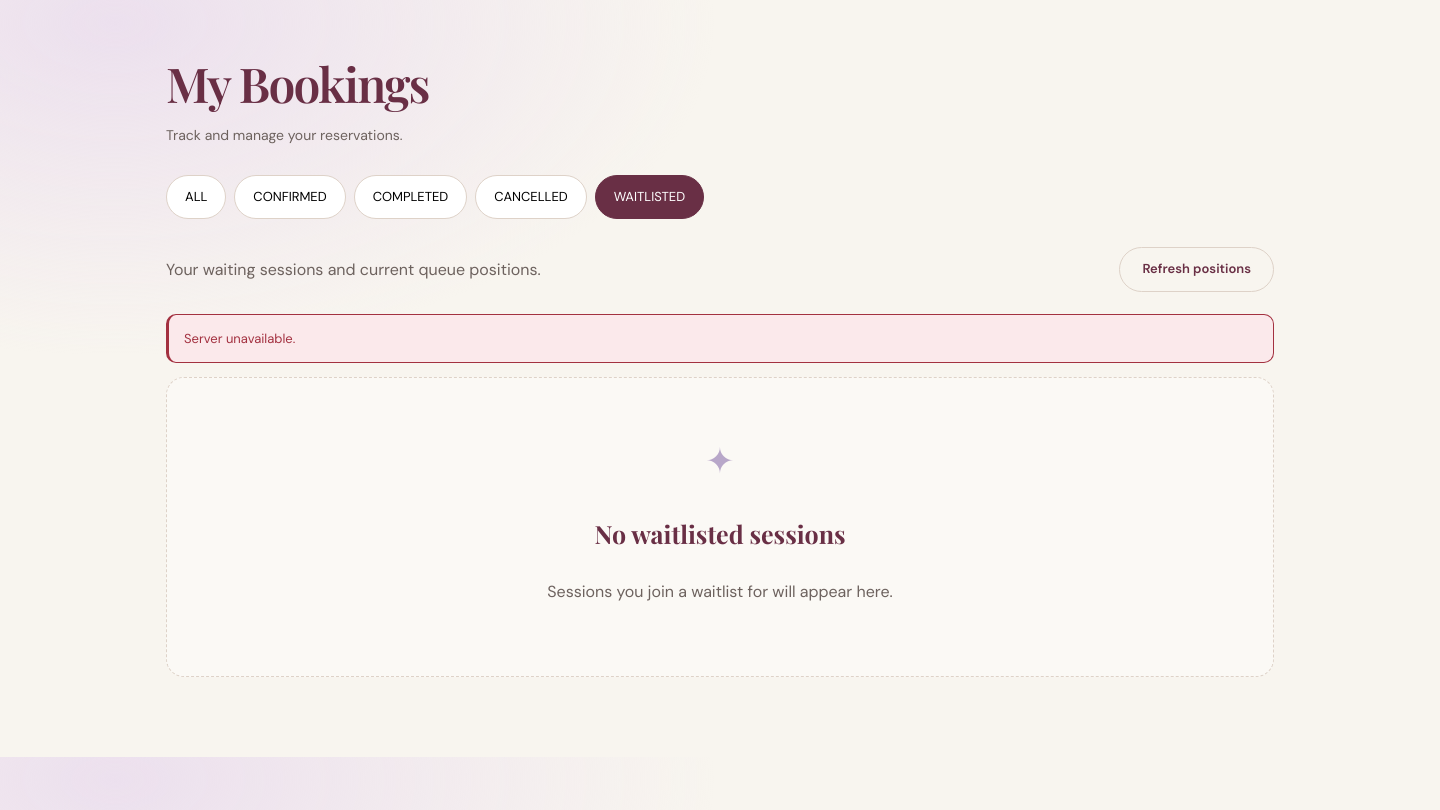
Test: allows retrying a failed list request without losing normal booking tabs
Expected: the message "Server unavailable." is shown, [166,314,1274,363]
Click the button "Refresh positions": [1197, 270] box [1120,248,1274,292]
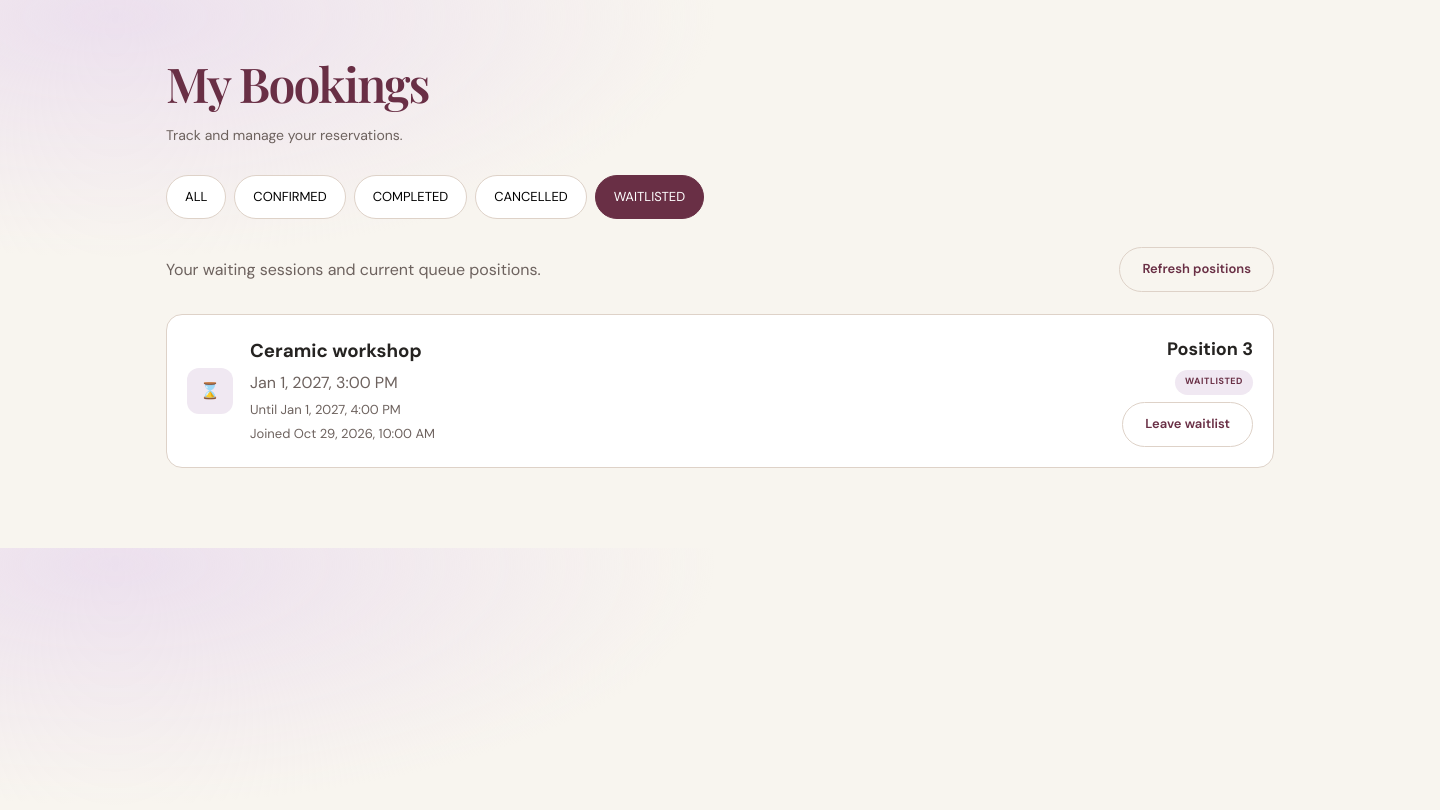
Expected: the button "CONFIRMED" is shown, [234,176,346,220]
Expected: the text "Position 3" is shown, [1167,335,1253,364]
Expected: the message "Server unavailable." is gone
